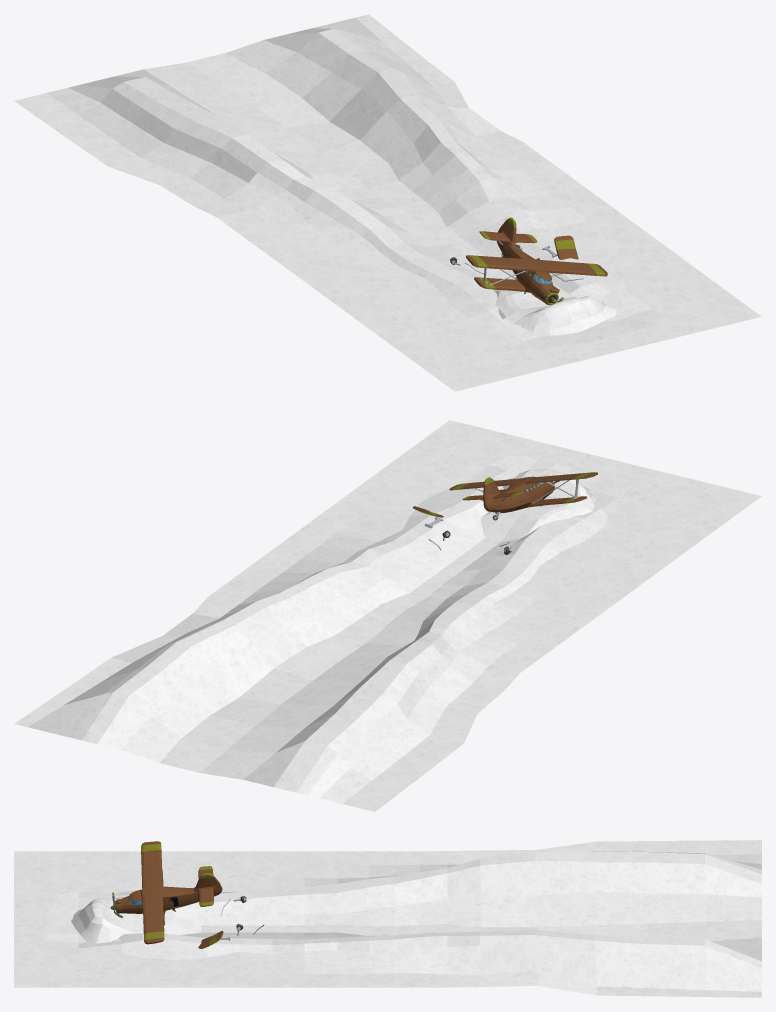
The model's file is air_plane_scene.fbx.
3 renders of one model, top to bottom at view 1: azimuth 30°, elevation 25°; view 2: azimuth 150°, elevation 25°; view 3: azimuth 270°, elevation 25°, orthographic. The views are drawn at different scales.
Parts seen in each view (by area): view 1: pPlane2, polySurface94; view 2: pPlane2, polySurface94; view 3: pPlane2, polySurface94.
Boxes of the visible parts, x1=… form: pPlane2: x1=14, y1=14, x2=761, y2=391; polySurface94: x1=450, y1=217, x2=607, y2=305; pPlane2: x1=14, y1=420, x2=761, y2=811; polySurface94: x1=413, y1=472, x2=597, y2=554; pPlane2: x1=14, y1=840, x2=761, y2=997; polySurface94: x1=110, y1=841, x2=264, y2=948.
Bounding box in the file's own units: 50.56 × 9.17 × 101.
